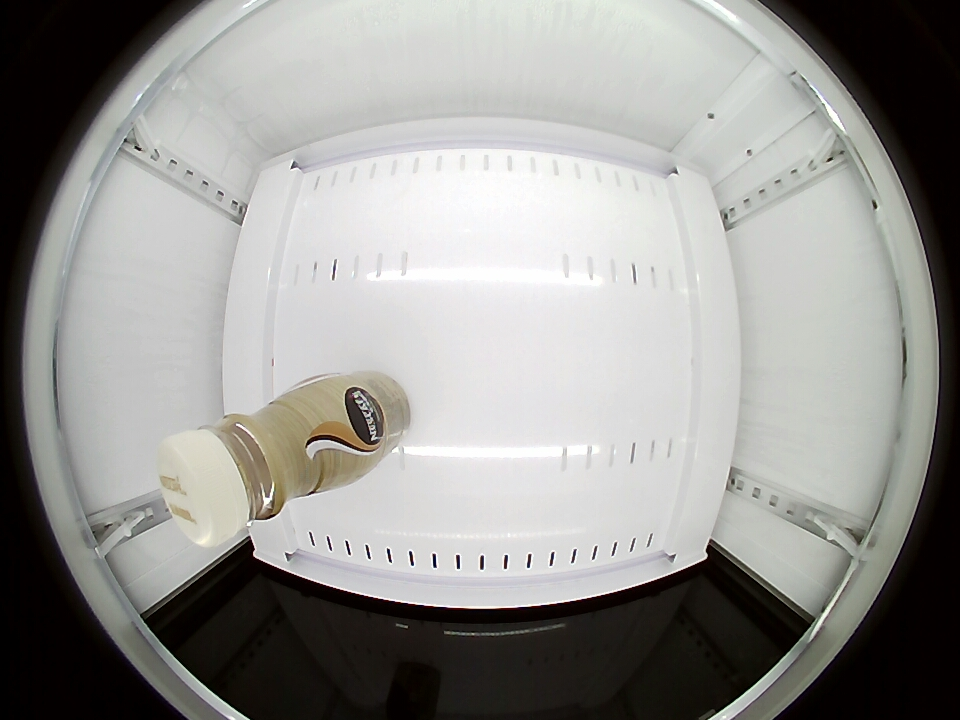kafei: (157, 388, 352, 545)
